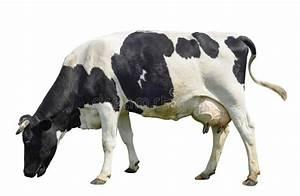cow: (15, 28, 287, 186)
